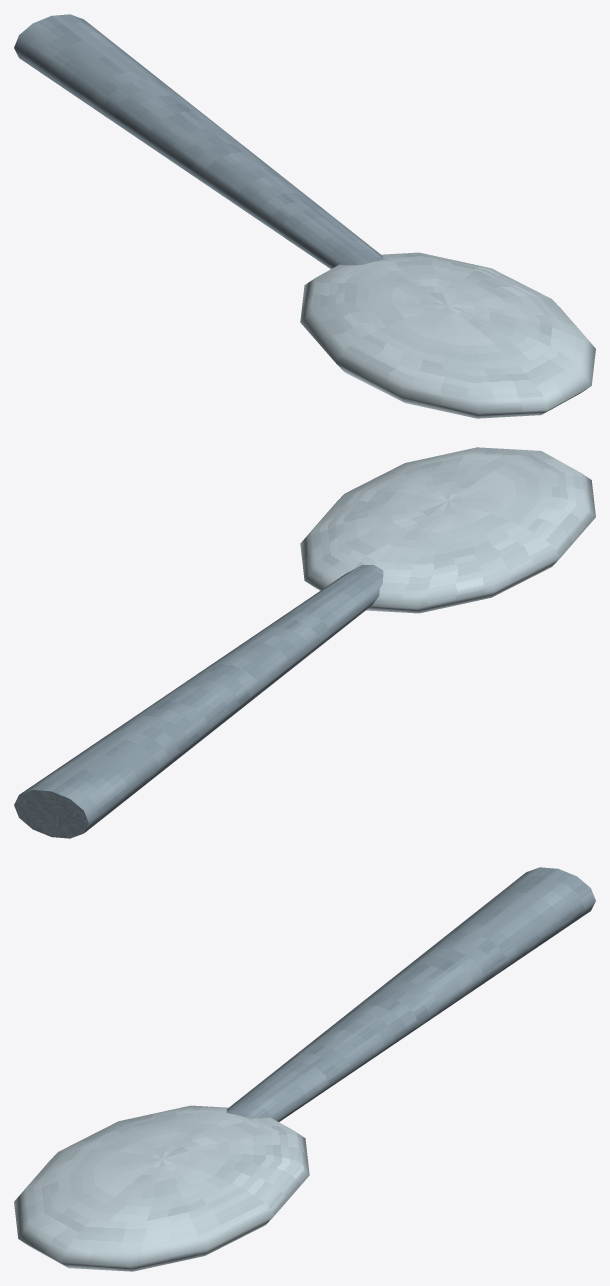
Rendered from steel-spoon.glb.
3 views of the same model, one above another, from view 1: azimuth 30°, elevation 25°; view 2: azimuth 150°, elevation 25°; view 3: azimuth 330°, elevation 25° (orthographic).
Visible parts, largest first — view 1: spoon bowl, handle; view 2: spoon bowl, handle; view 3: spoon bowl, handle.
Boxes of the visible parts, box(x1,y1,x2,y2) form: spoon bowl: box(300, 252, 595, 418); handle: box(14, 14, 383, 268); spoon bowl: box(300, 447, 595, 613); handle: box(14, 565, 383, 838); spoon bowl: box(14, 1105, 309, 1271); handle: box(226, 867, 595, 1121).
Bounding box in the file's own units: 0.36 × 0.09 × 1.38.
Materials: 2 (2 with a texture image).
